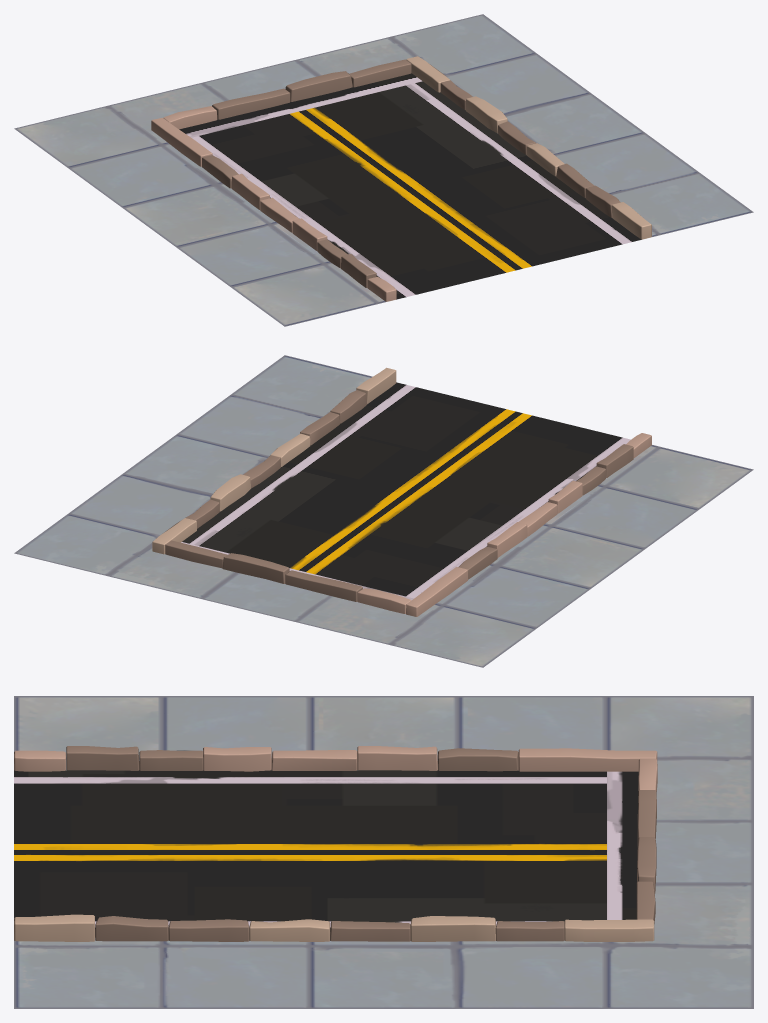
File: CityRoad_endNarrowRoad_1.fbx
3 views of the same model, one above another, from view 1: azimuth 30°, elevation 25°; view 2: azimuth 150°, elevation 25°; view 3: azimuth 270°, elevation 25° (orthographic). The views are drawn at different scales.
Parts seen in each view (by area): view 1: CityRoad_endNarrowRoad_1_mesh; view 2: CityRoad_endNarrowRoad_1_mesh; view 3: CityRoad_endNarrowRoad_1_mesh.
Part boxes in pixels (bbox=[...]): CityRoad_endNarrowRoad_1_mesh: bbox=[14, 14, 753, 326]; CityRoad_endNarrowRoad_1_mesh: bbox=[14, 355, 753, 667]; CityRoad_endNarrowRoad_1_mesh: bbox=[14, 696, 753, 1008].
Bounding box in the file's own units: 1000 × 28.55 × 1000.
